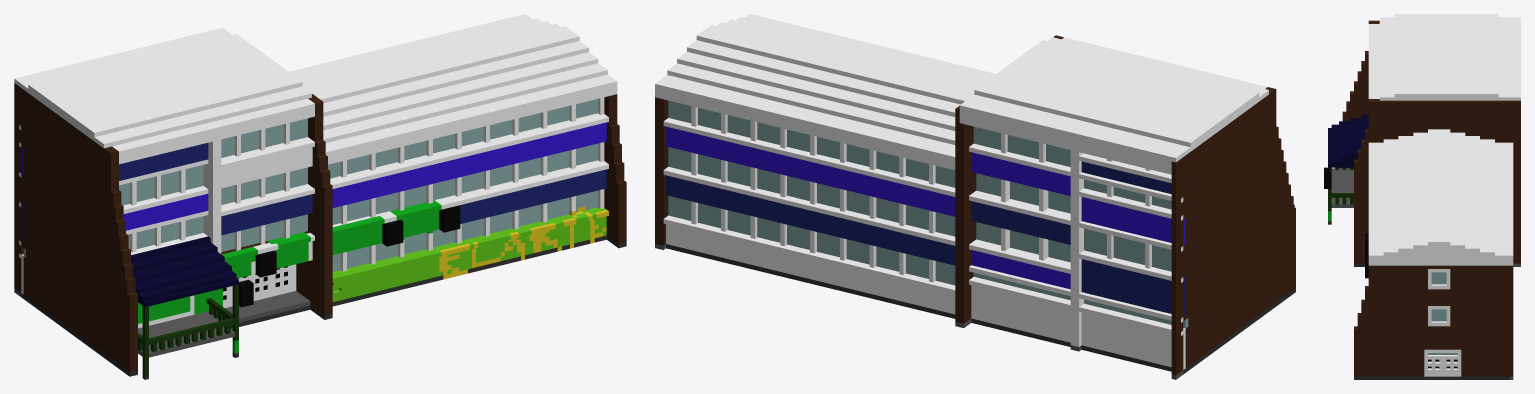
The picture shows the model from 3 angles, left to right: view 1: azimuth 30°, elevation 25°; view 2: azimuth 150°, elevation 25°; view 3: azimuth 270°, elevation 25°; orthographic projection. The views are drawn at different scales.
Parts seen in each view (by area): view 1: Node1; view 2: Node1; view 3: Node1.
Part boxes in pixels (left/top/right/bottom): Node1: left=14, top=14, right=626, bottom=379; Node1: left=655, top=14, right=1295, bottom=379; Node1: left=1324, top=14, right=1520, bottom=379.
Bounding box in the file's own units: 124 × 51 × 53.
1 material, 1 textured.
